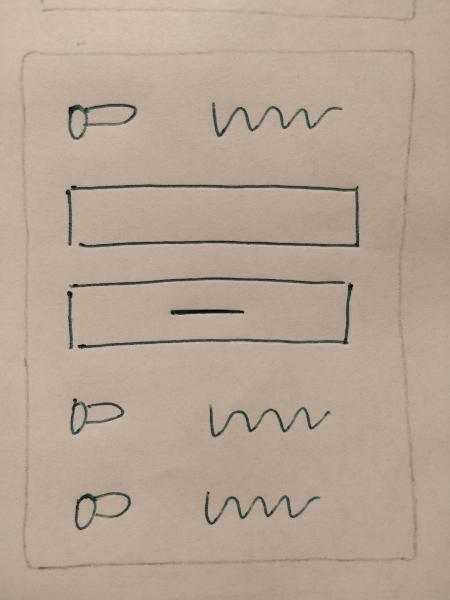button: (54, 272, 360, 358)
switch: (56, 95, 143, 144), (57, 393, 144, 442), (58, 486, 145, 535)
text: (201, 92, 345, 146), (197, 388, 341, 442), (195, 479, 339, 533)
text_input: (56, 179, 368, 262)
